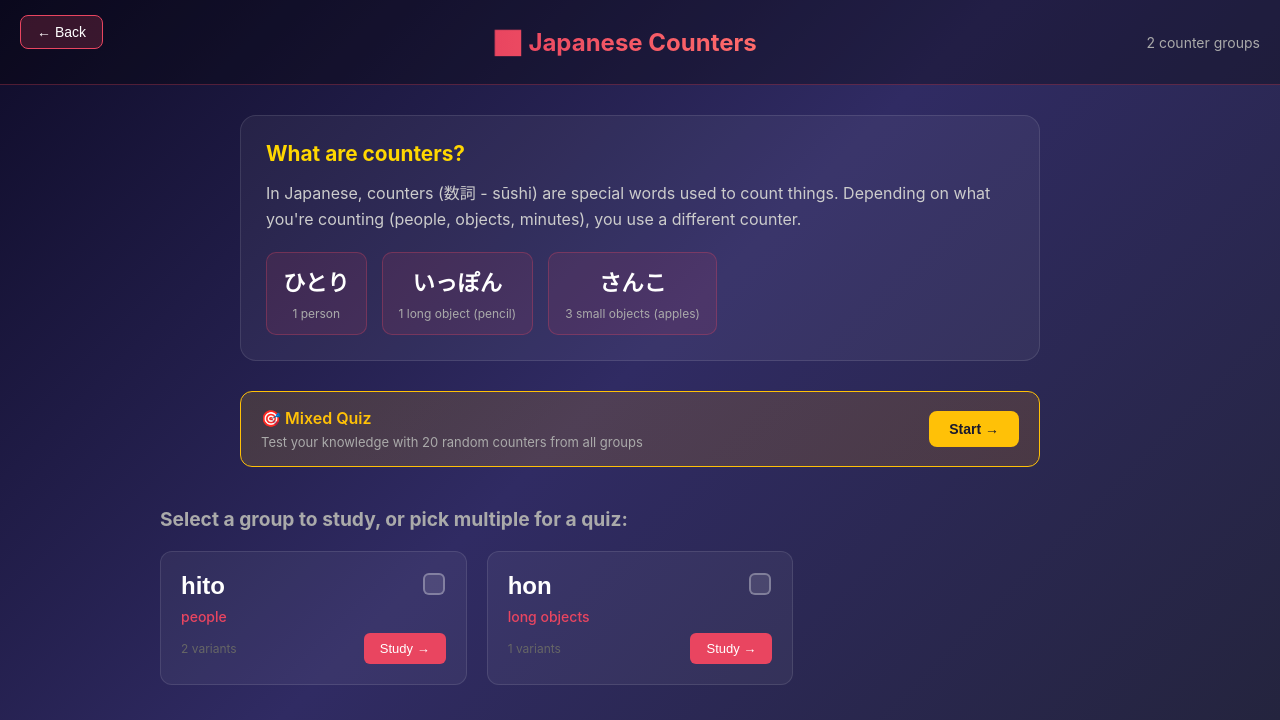
CountersMode › should navigate between patterns in study mode
Click the heading "hito" at (203, 586), box [181,572,225,600]
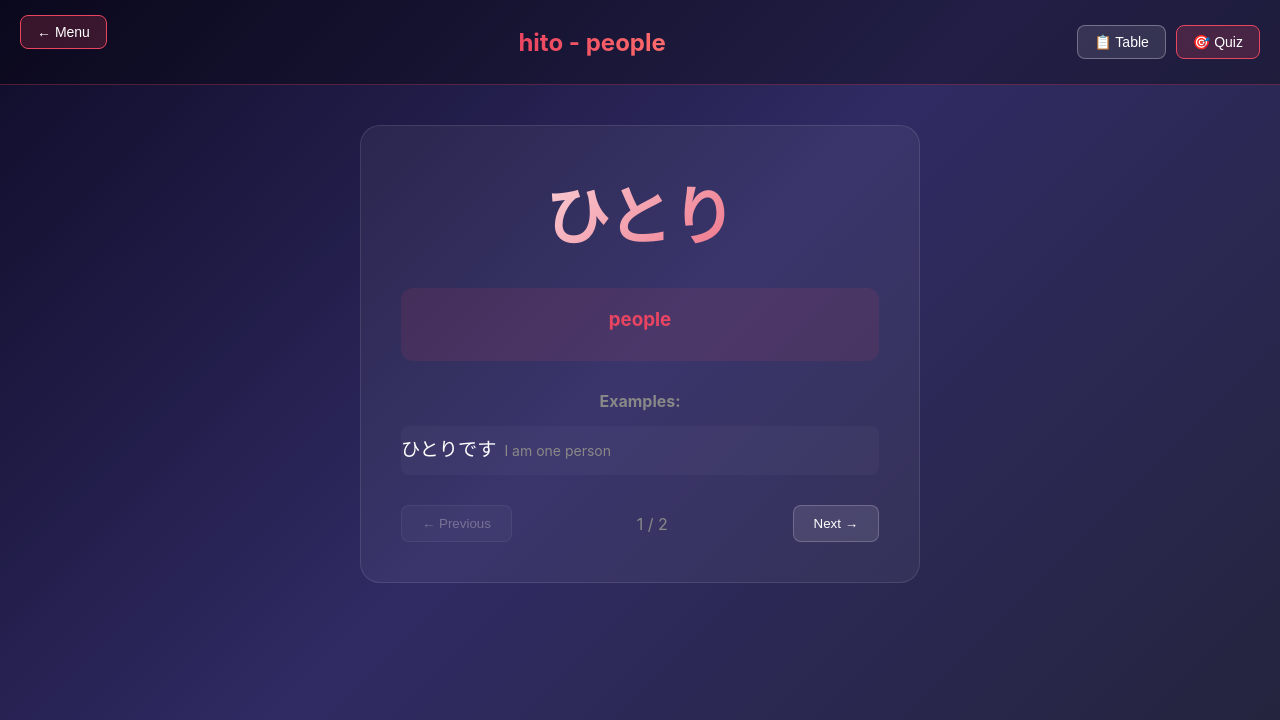
Result: the text "1 / 2" is shown at [637,514,668,534]
Note: Click next
Click the button "Next →" at (836, 524), box [793,505,879,542]
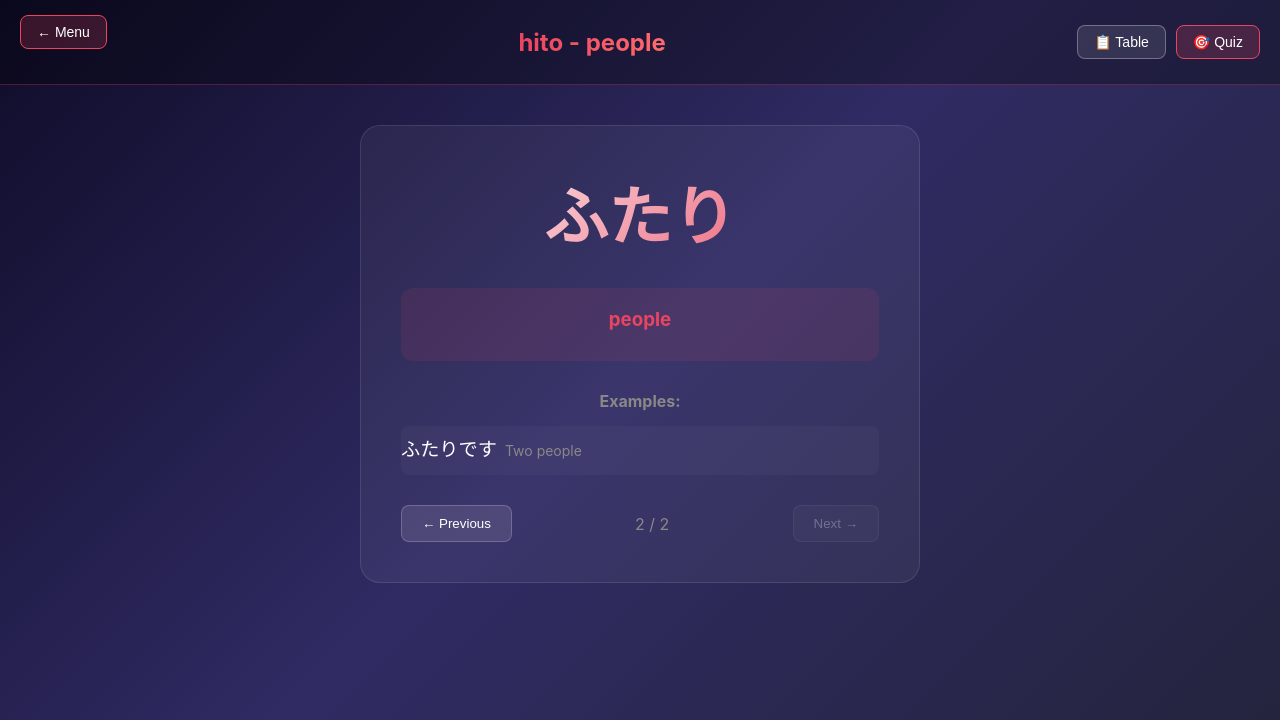
Result: the text "2 / 2" is shown at [635,514,669,534]
Result: the text "ふたり" is shown at [401,166,879,258]
Result: the button "← Previous" is enabled at [401,505,512,542]
